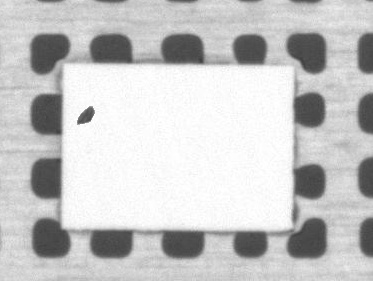DIE_INK: (100, 78, 127, 95)
